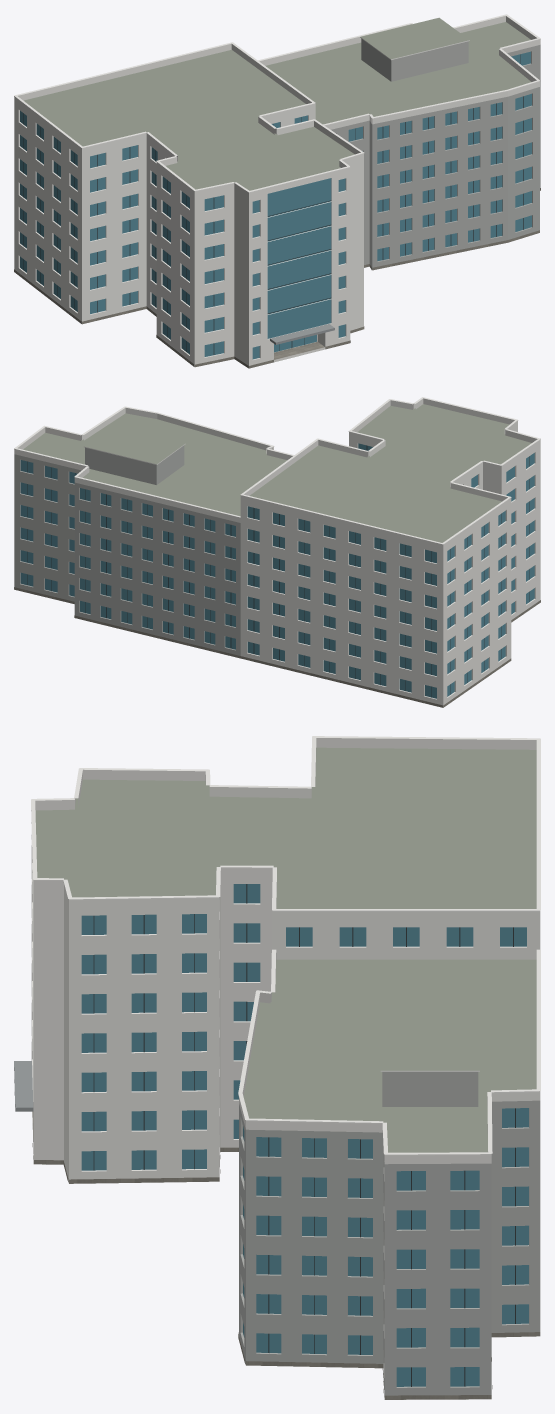
3 renders of one model, top to bottom at view 1: azimuth 30°, elevation 25°; view 2: azimuth 150°, elevation 25°; view 3: azimuth 270°, elevation 25°, orthographic. The views are drawn at different scales.
Parts seen in each view (by area): view 1: cheongun__wall, cheongun__roof, cheongun__glass, cheongun__wall2, cheongun__parapet, cheongun__trim, cheongun__frame, cheongun__base, cheongun__canopy; view 2: cheongun__wall, cheongun__roof, cheongun__wall2, cheongun__glass, cheongun__parapet, cheongun__trim, cheongun__frame, cheongun__base; view 3: cheongun__roof, cheongun__wall, cheongun__wall2, cheongun__glass, cheongun__parapet, cheongun__trim, cheongun__base, cheongun__frame, cheongun__canopy.
Part boxes in pixels (x1,y1,x2,y2): cheongun__wall: (14,102,363,367); cheongun__roof: (24,17,531,362); cheongun__glass: (20,51,531,359); cheongun__wall2: (331,39,540,269); cheongun__parapet: (14,16,540,197); cheongun__trim: (14,14,540,192); cheongun__frame: (23,54,523,354); cheongun__base: (14,188,540,368); cheongun__canopy: (270,324,334,344); cheongun__wall: (240,426,540,707); cheongun__roof: (23,404,531,542); cheongun__wall2: (14,445,240,655); cheongun__glass: (20,443,534,698); cheongun__parapet: (14,398,540,549); cheongun__trim: (14,397,540,544); cheongun__frame: (27,445,529,697); cheongun__base: (14,587,540,707); cheongun__roof: (35,747,536,1399); cheongun__wall: (31,836,540,1182); cheongun__wall2: (239,1072,540,1396); cheongun__glass: (81,884,528,1386); cheongun__parapet: (33,738,540,1164); cheongun__trim: (31,736,540,1155); cheongun__base: (32,1111,540,1399); cheongun__frame: (93,884,515,1386); cheongun__canopy: (14,1061,33,1111).
Size of the model in its own units: 74.61 by 26.12 by 43.8.
10 materials, 1 textured.
